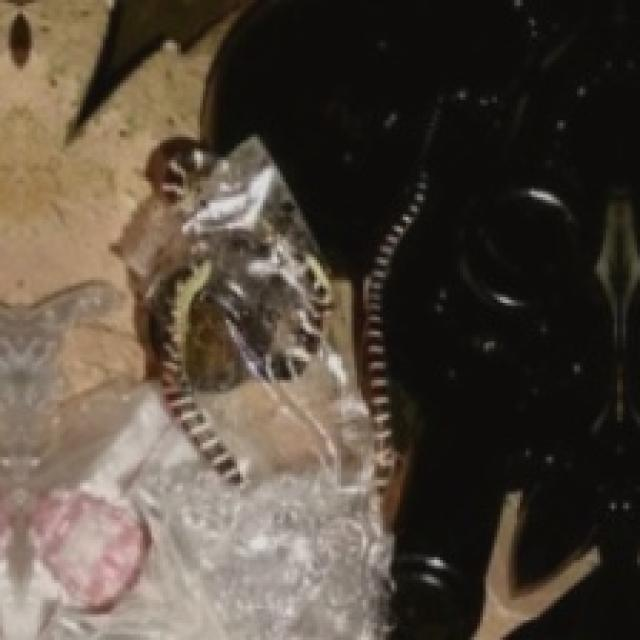paradise tree snake: (114, 137, 346, 480)
